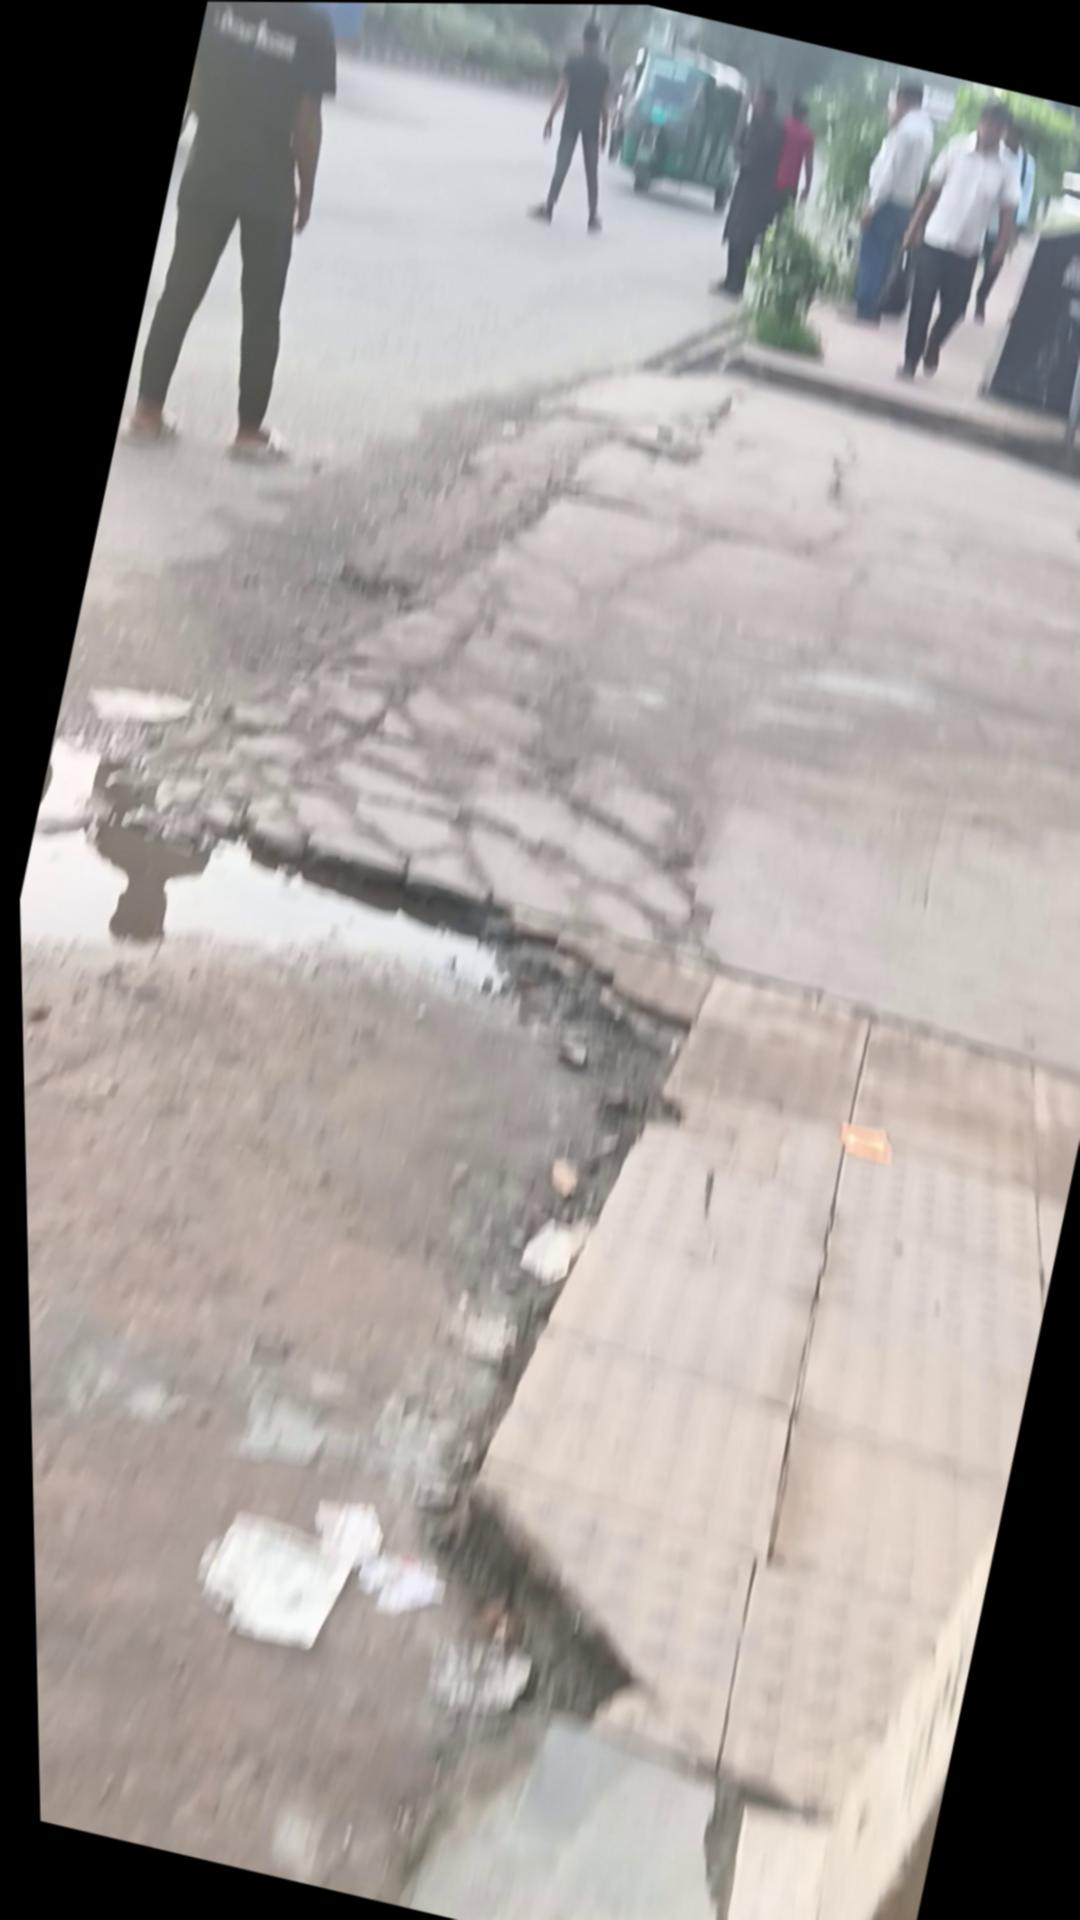Broken-road: (0, 5, 1080, 1920)
Cat: (969, 187, 1080, 443)
Crosswalk: (712, 335, 1080, 520)
Muddy road: (105, 0, 404, 477), (866, 83, 1044, 393), (829, 67, 951, 327), (518, 13, 646, 235), (695, 75, 802, 302), (957, 117, 1048, 328), (746, 92, 831, 281)
Railroad-crossing: (12, 682, 584, 1080)
Traffic-sign: (593, 37, 762, 215)
